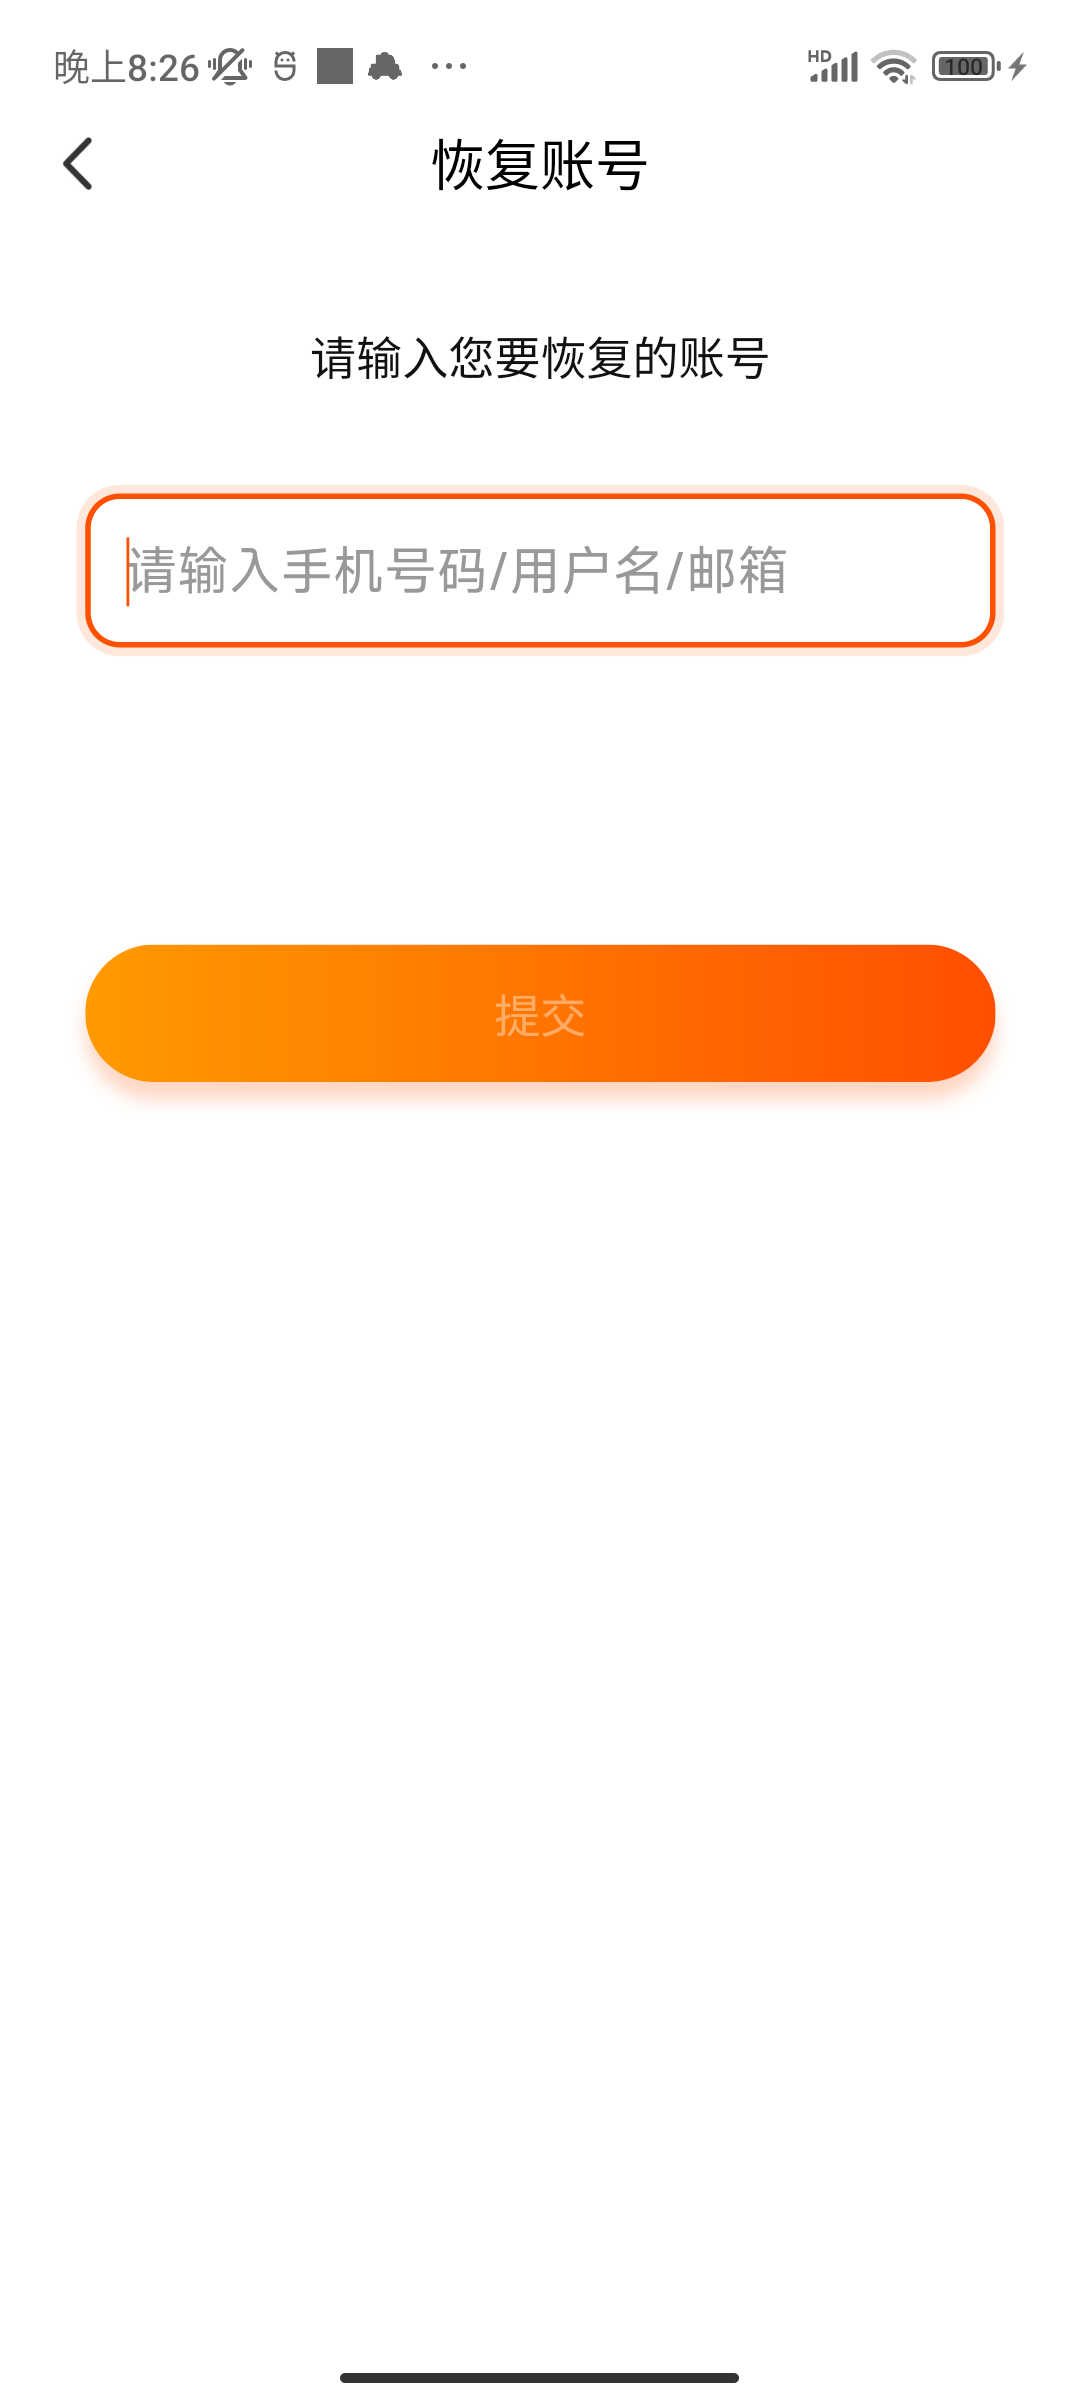ui_group: (49, 109, 1033, 1116)
